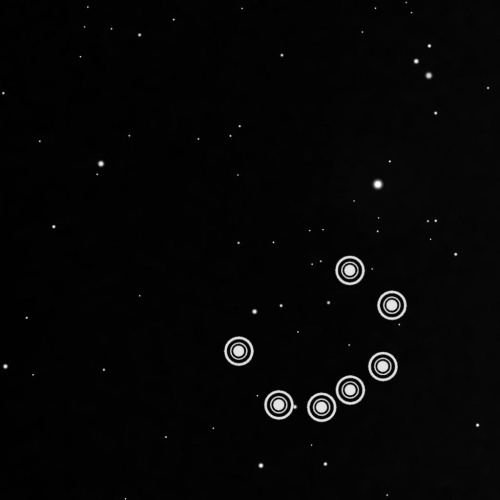corona_borealis: (218, 248, 413, 425)
